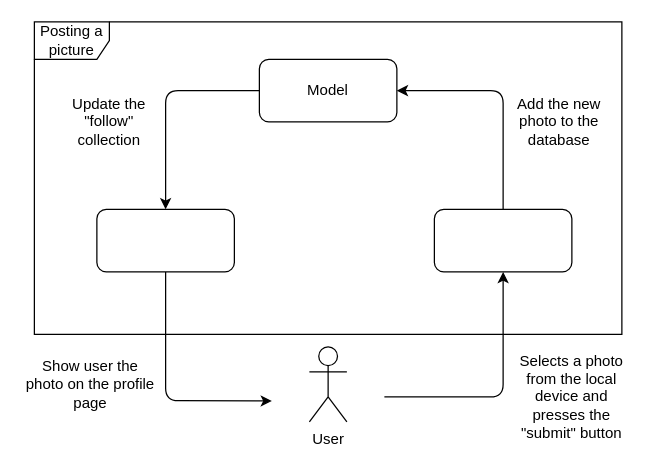
The diagram is 655 pixels wide and 470 high, and some of its shapes have lost their labels. Each missing label, with the centre of its shape:
"Controller" belongs at point 502,240.
"View" belongs at point 165,240.
